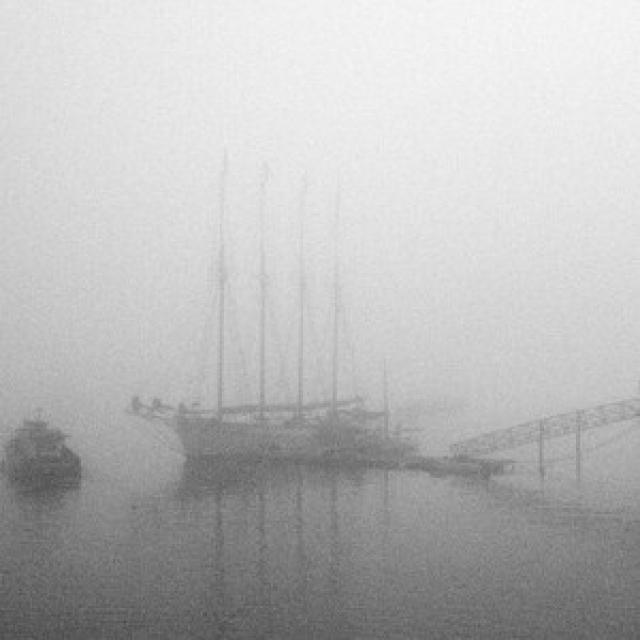fishing boat: (125, 164, 428, 487), (0, 414, 96, 503)
